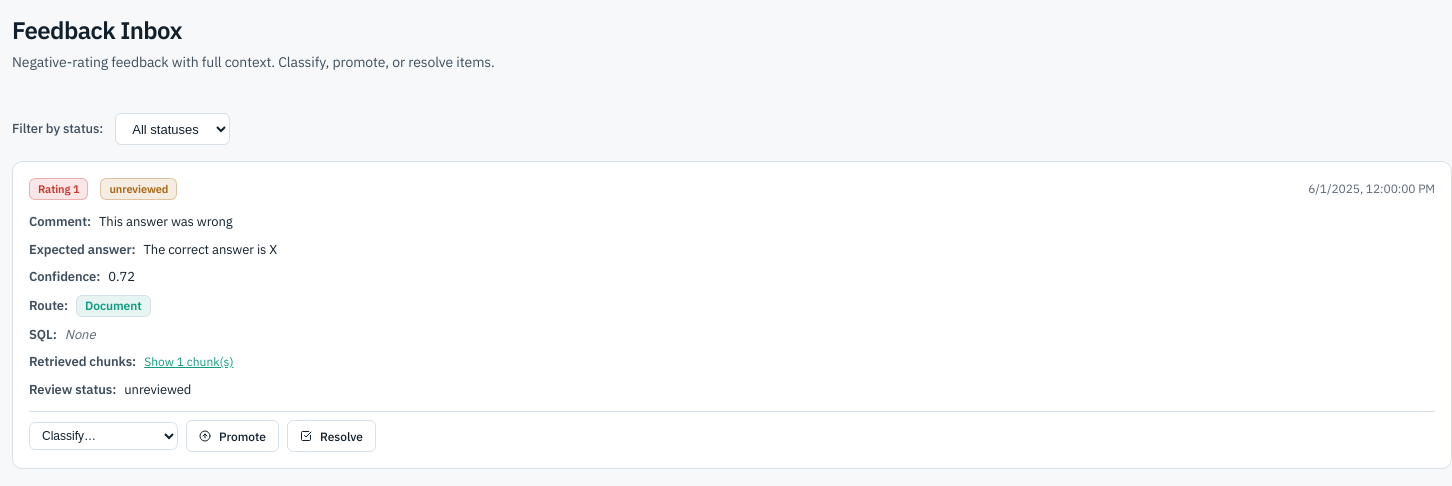
Test: FeedbackInboxPage › provides classify action with six categories
The image size is (1452, 486).
Expected: the text "Rating 1" is shown, [29,178,88,200]
Select "Wrong route" in the dropdown named "Classify feedback": (104, 436) [29,422,178,450]
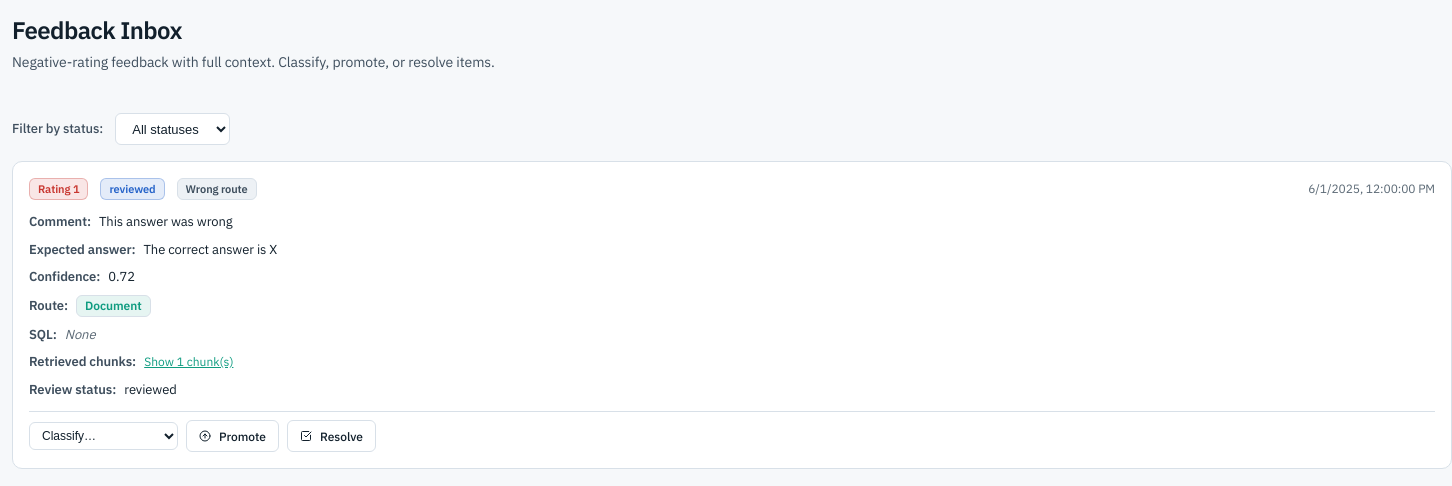
Result: the text "Wrong route" is shown at [177,178,257,200]
